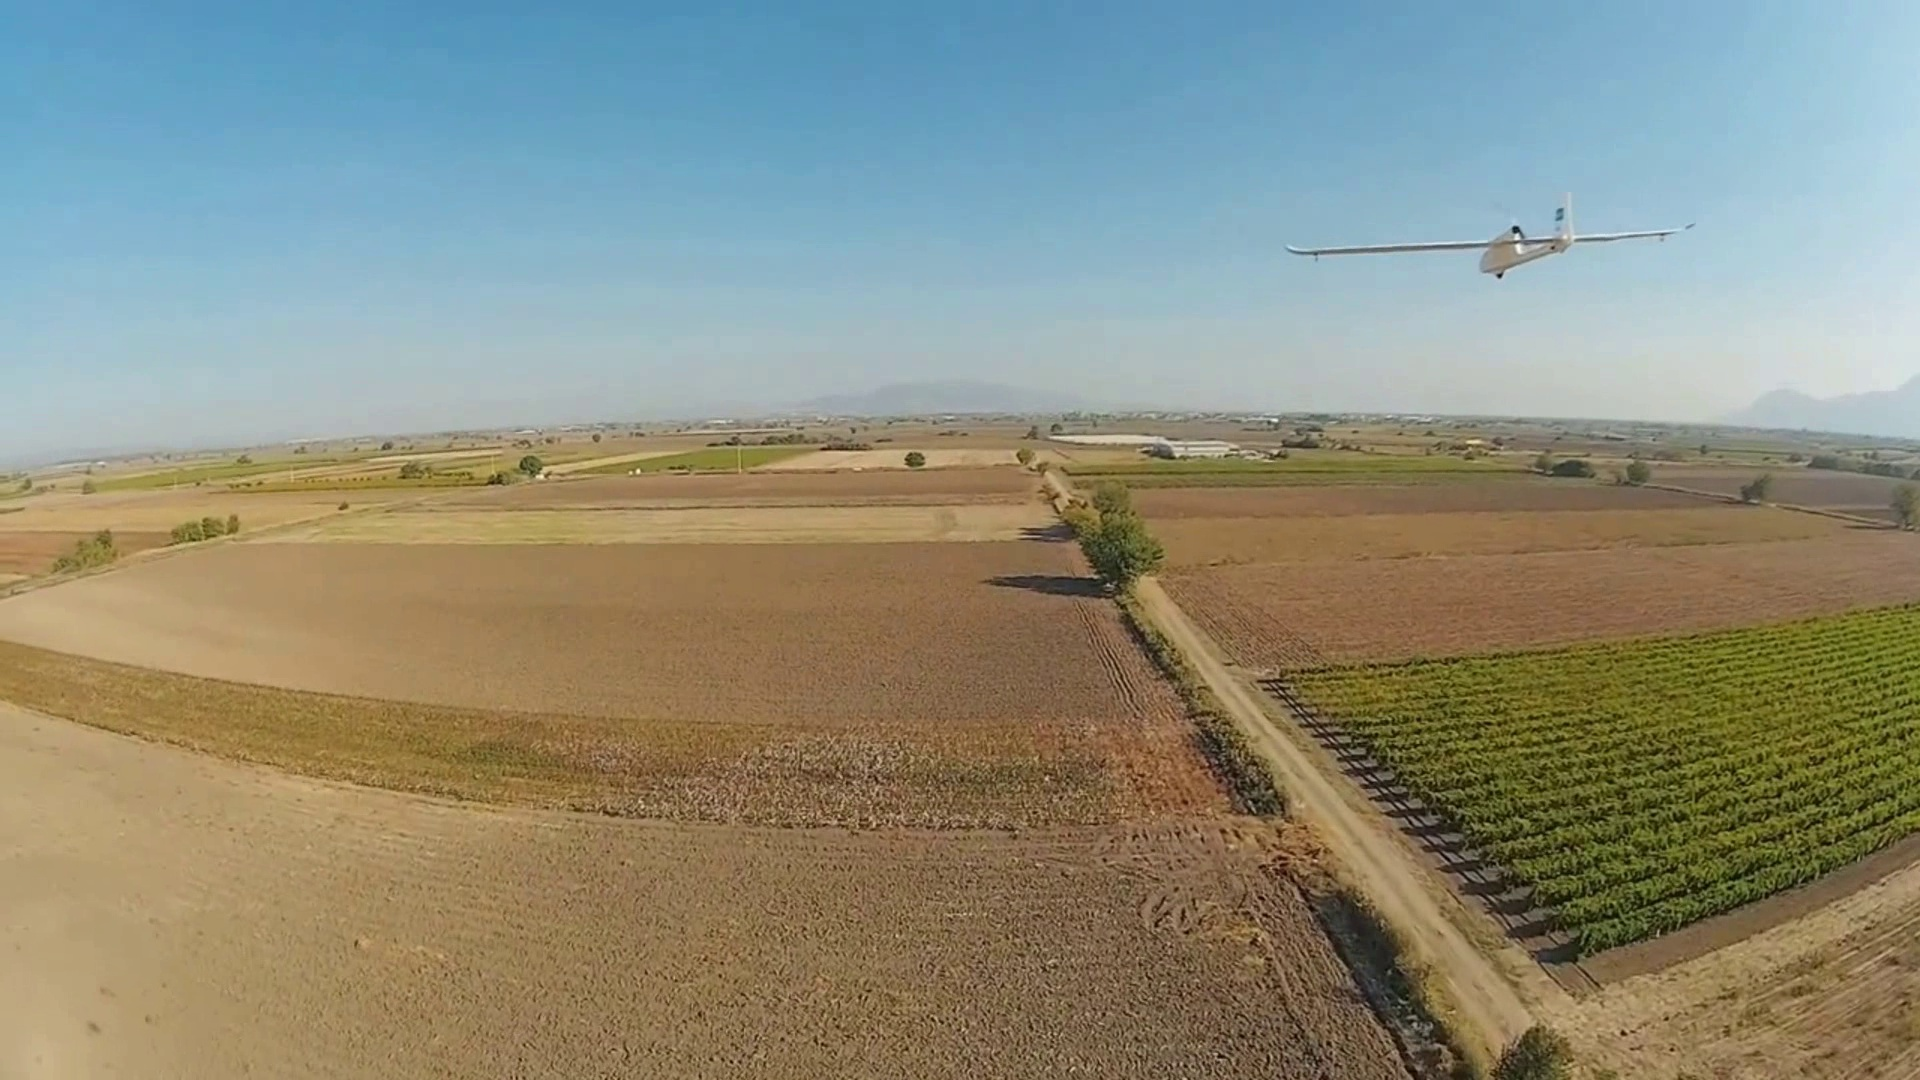airplane: (1282, 200, 1693, 283)
